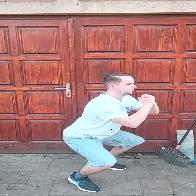squats: (57, 67, 162, 190)
